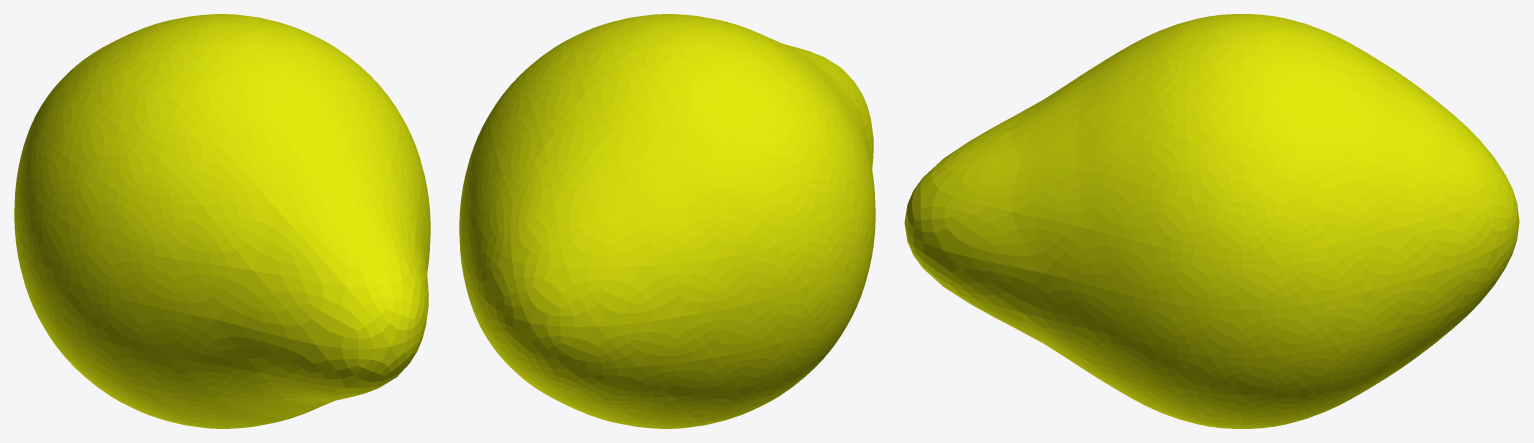
The model's file is limon.fbx.
3 renders of one model, left to right at view 1: azimuth 30°, elevation 25°; view 2: azimuth 150°, elevation 25°; view 3: azimuth 270°, elevation 25°, orthographic.
Visible parts, largest first — view 1: Icosphere; view 2: Icosphere; view 3: Icosphere.
Boxes of the visible parts, left/top/right/bottom form: Icosphere: left=14, top=14, right=430, bottom=428; Icosphere: left=459, top=14, right=875, bottom=428; Icosphere: left=904, top=14, right=1519, bottom=428.
Bounding box in the file's own units: 196 × 197 × 290.
